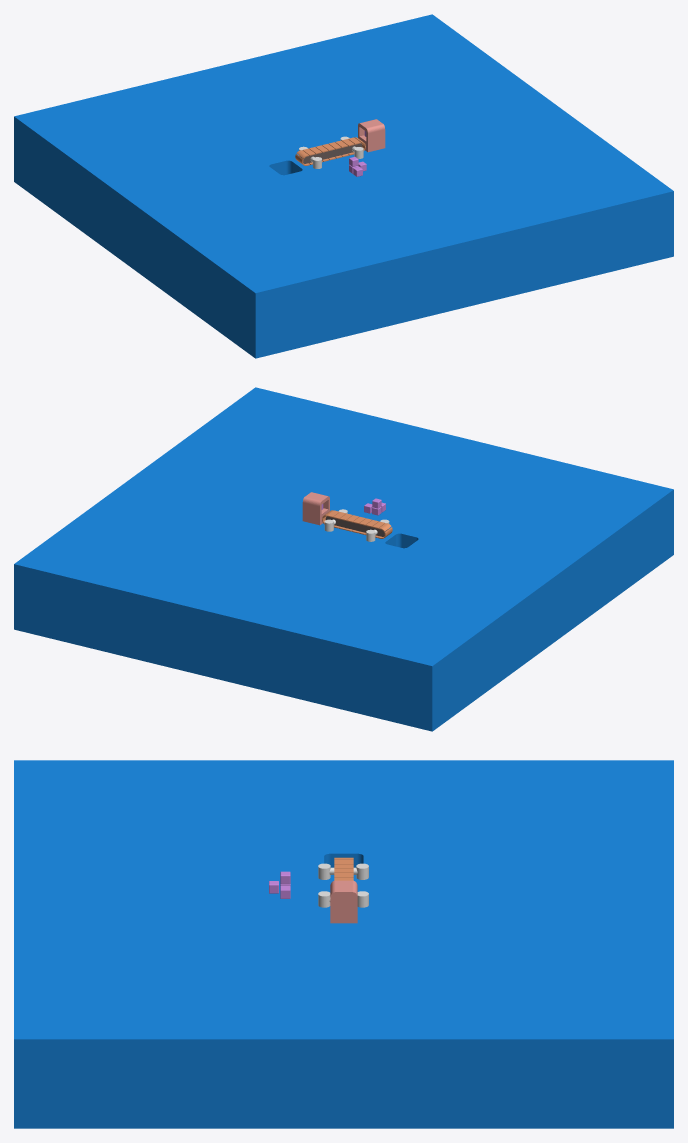
Rendered from conveyer belt .fbx.
3 views of the same model, one above another, from view 1: azimuth 30°, elevation 25°; view 2: azimuth 150°, elevation 25°; view 3: azimuth 270°, elevation 25° (orthographic). The views are drawn at different scales.
Parts seen in each view (by area): view 1: Plane.002, Cube.001, Plane.001; view 2: Plane.002, Cube.001, Plane.001; view 3: Plane.002, Cube.001.
Part boxes in pixels (x1,y1,x2,y2): Plane.002: (14, 14, 673, 358); Cube.001: (358, 119, 385, 152); Plane.001: (295, 137, 365, 165); Plane.002: (14, 387, 673, 731); Cube.001: (302, 492, 329, 525); Plane.001: (322, 510, 392, 538); Plane.002: (14, 760, 673, 1128); Cube.001: (330, 880, 357, 923).
Size of the model in its own units: 4851 by 983 by 4851.
